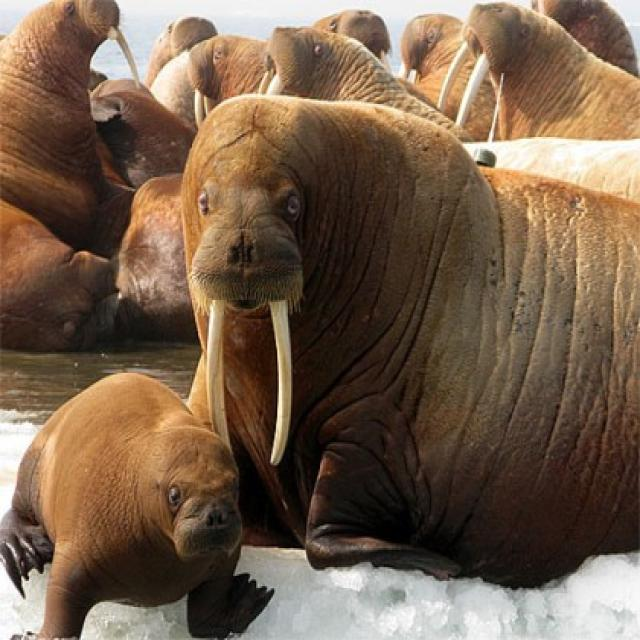walrus: (163, 94, 640, 558), (26, 390, 258, 639), (440, 4, 640, 140)
